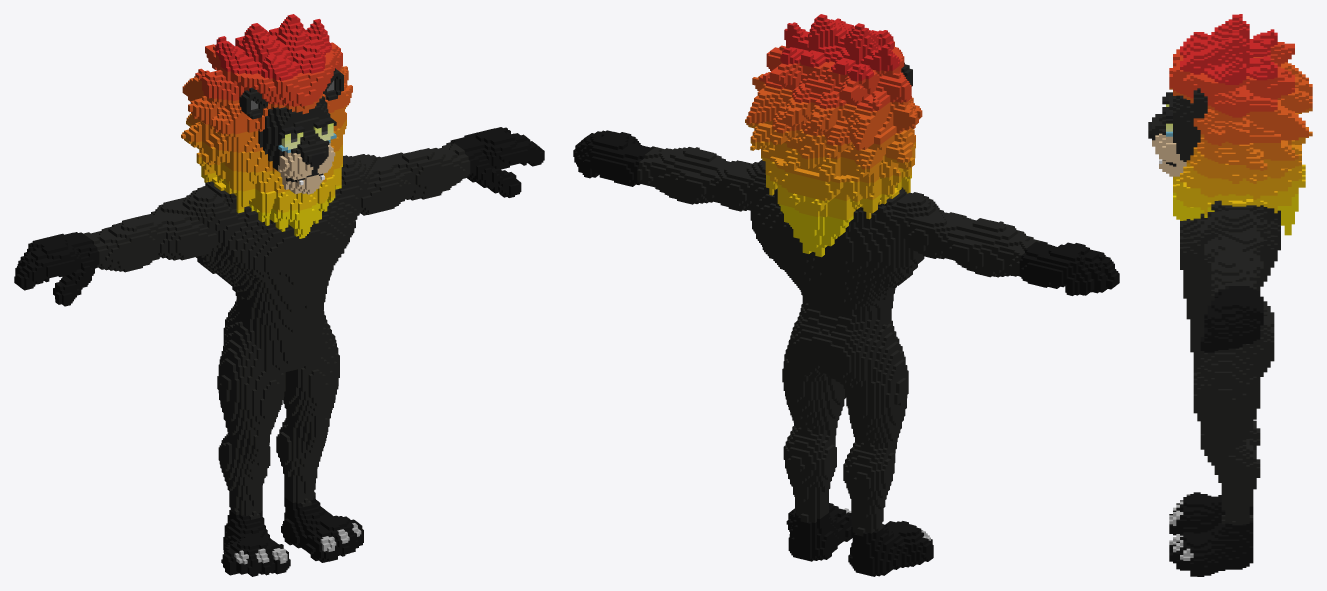
The model's file is 198-CrzfgND9.glb.
The picture shows the model from 3 angles, left to right: view 1: azimuth 30°, elevation 25°; view 2: azimuth 150°, elevation 25°; view 3: azimuth 270°, elevation 25°; orthographic projection. The views are drawn at different scales.
Parts seen in each view (by area): view 1: standard; view 2: standard; view 3: standard.
Part boxes in pixels (left/top/right/bottom): standard: left=14, top=14, right=544, bottom=576; standard: left=573, top=14, right=1119, bottom=576; standard: left=1148, top=14, right=1312, bottom=576.
Bounding box in the file's own units: 17.2 × 16.5 × 4.7.
Materials: 4 (4 with a texture image).
